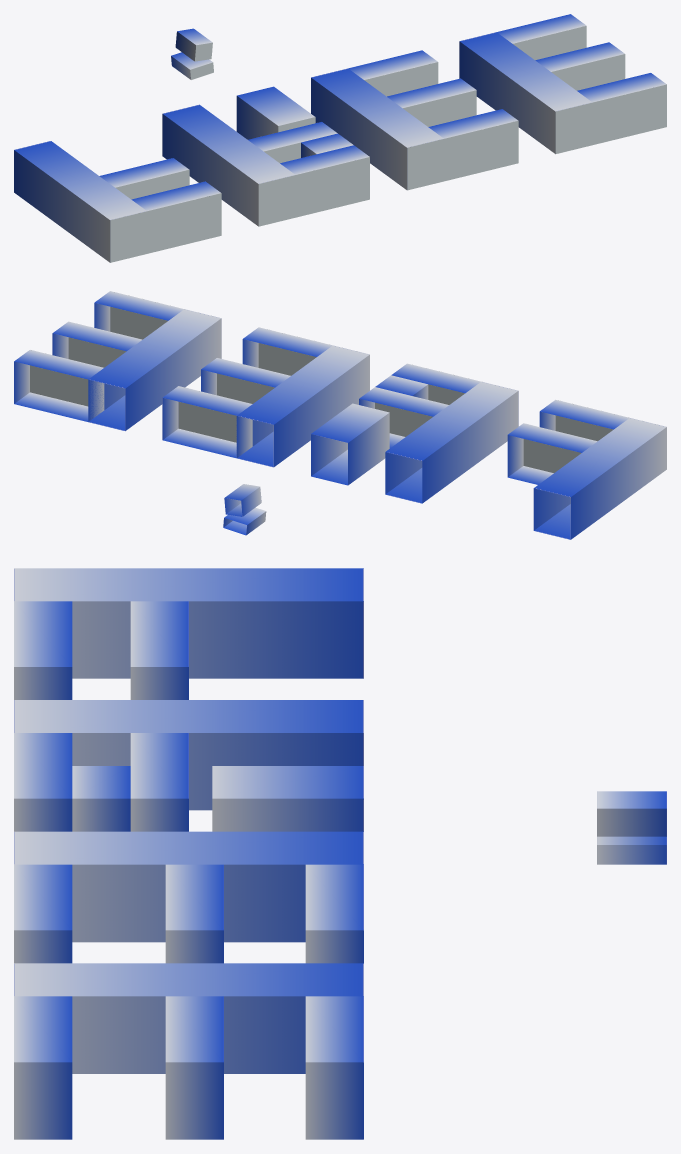
The picture shows the model from 3 angles, top to bottom: view 1: azimuth 30°, elevation 25°; view 2: azimuth 150°, elevation 25°; view 3: azimuth 270°, elevation 25°; orthographic projection. The views are drawn at different scales.
Visible parts, largest first — view 1: buildingFace, buildingTop; view 2: buildingFace, buildingTop; view 3: buildingFace.
Boxes of the visible parts, x1,y1,x2,y2 form: buildingFace: [14, 14, 666, 262]; buildingTop: [110, 26, 666, 262]; buildingFace: [14, 291, 666, 539]; buildingTop: [30, 307, 613, 472]; buildingFace: [14, 568, 666, 1139].
Bounding box in the file's own units: 301 × 22.01 × 168.
2 materials, 2 textured.
